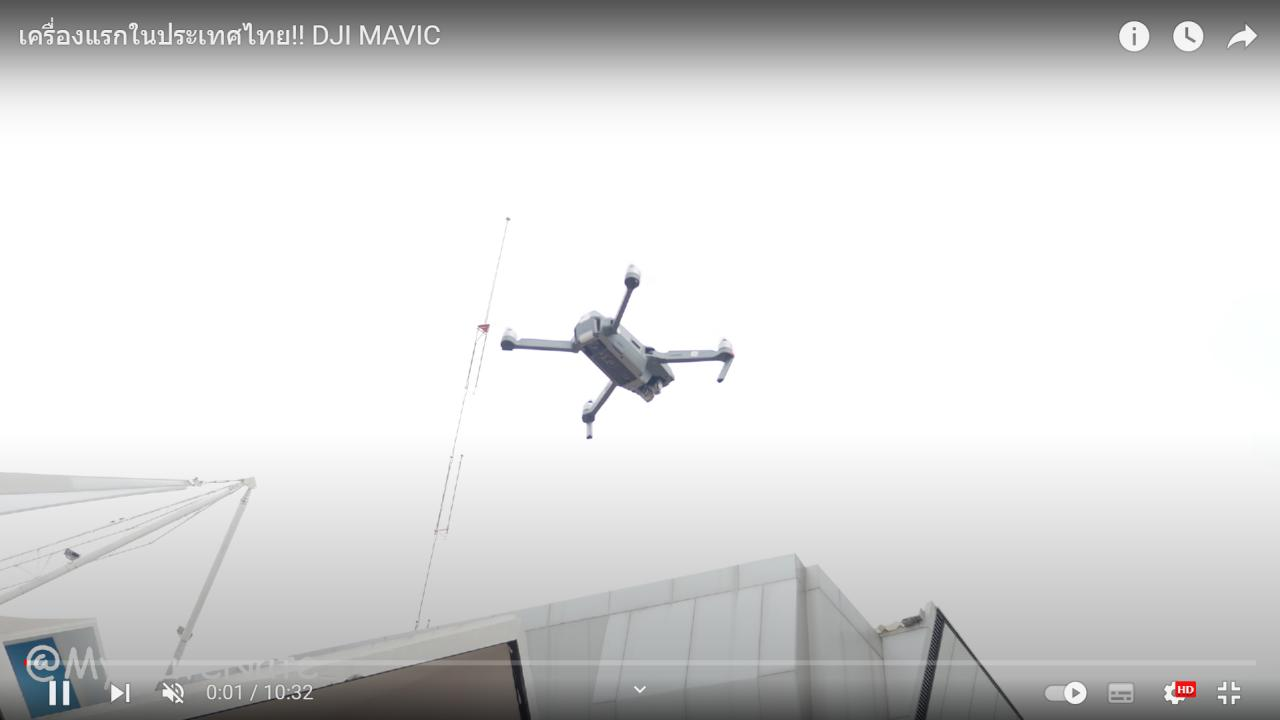Drone: (488, 254, 750, 457)
